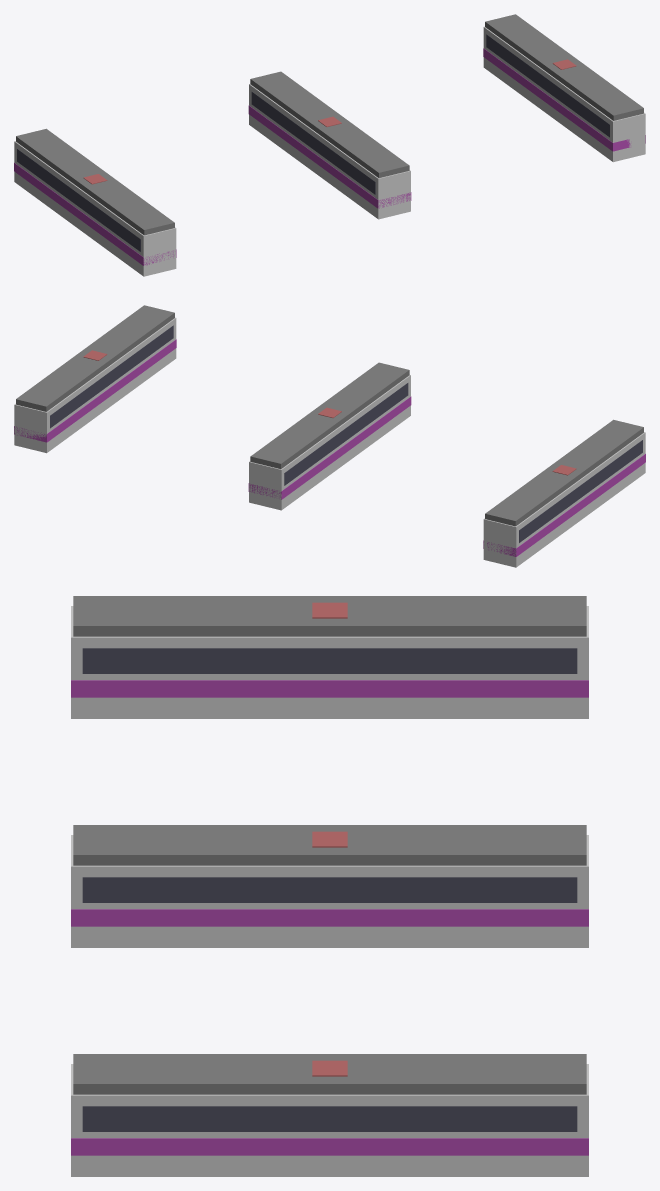
Rendered from mumbai_local.glb.
3 renders of one model, top to bottom at view 1: azimuth 30°, elevation 25°; view 2: azimuth 150°, elevation 25°; view 3: azimuth 270°, elevation 25°, orthographic. The views are drawn at different scales.
Parts seen in each view (by area): view 1: geometry_0; view 2: geometry_0; view 3: geometry_0.
Part boxes in pixels (x1,y1,x2,y2): geometry_0: [14, 14, 645, 276]; geometry_0: [14, 305, 645, 567]; geometry_0: [71, 596, 588, 1176].
Bounding box in the file's own units: 49.25 × 4.35 × 22.
